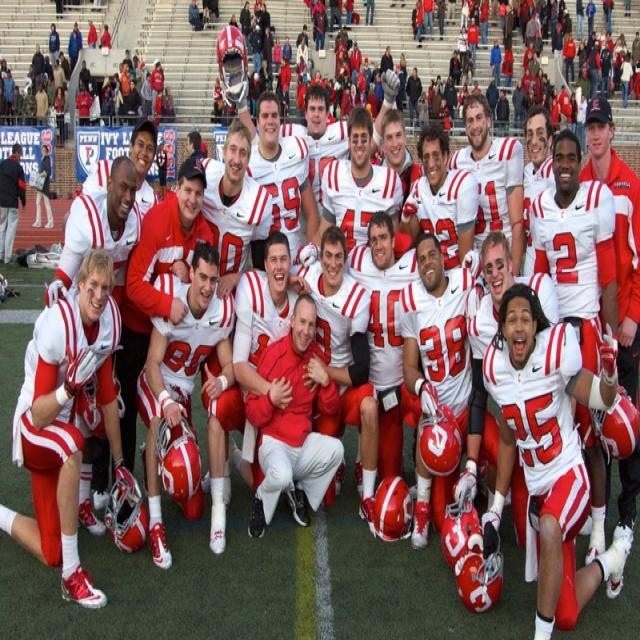body: (0, 0, 640, 136), (479, 280, 634, 638), (295, 208, 485, 499), (0, 242, 140, 610), (294, 104, 411, 498), (452, 227, 582, 559), (528, 128, 618, 572), (131, 237, 238, 576), (110, 153, 216, 495), (396, 230, 492, 554), (192, 121, 274, 498), (285, 222, 382, 537), (574, 94, 640, 538), (224, 66, 402, 226), (242, 290, 346, 539), (226, 228, 302, 499), (294, 102, 405, 276), (44, 154, 142, 321), (446, 92, 526, 277), (244, 91, 319, 269), (398, 122, 479, 270), (61, 115, 161, 234), (519, 101, 562, 280), (370, 107, 427, 225), (0, 140, 28, 269), (26, 142, 57, 231), (405, 65, 423, 140), (511, 77, 529, 140), (238, 0, 254, 63), (312, 1, 329, 58), (149, 59, 165, 119), (334, 24, 351, 80), (66, 19, 84, 71), (56, 80, 71, 141), (52, 84, 66, 148), (562, 30, 577, 89), (586, 40, 600, 102), (125, 77, 142, 127), (2, 68, 16, 128), (75, 81, 93, 127), (620, 50, 634, 109), (494, 88, 510, 138), (112, 71, 126, 128), (156, 141, 169, 201), (501, 36, 514, 95), (484, 78, 501, 123), (20, 85, 38, 127), (184, 129, 206, 163), (600, 47, 614, 100), (456, 23, 470, 74), (466, 16, 479, 70), (10, 83, 26, 126), (34, 79, 48, 127), (444, 73, 458, 121), (260, 1, 271, 62), (48, 22, 61, 73), (478, 0, 491, 50), (262, 24, 274, 78), (67, 30, 82, 73), (140, 70, 154, 116), (490, 37, 502, 89), (394, 62, 406, 114), (30, 41, 46, 78), (57, 49, 71, 90), (187, 0, 204, 32), (52, 58, 67, 94), (630, 28, 639, 86), (449, 50, 462, 89), (295, 33, 309, 68), (585, 0, 597, 40), (380, 45, 394, 79), (78, 59, 92, 92), (362, 55, 372, 100), (349, 40, 362, 74), (457, 81, 470, 114), (0, 57, 7, 116), (578, 40, 588, 81), (437, 0, 447, 41), (295, 23, 309, 51), (86, 18, 98, 50), (99, 22, 113, 49), (274, 34, 283, 76), (598, 40, 613, 64), (26, 62, 36, 96), (41, 52, 53, 80), (282, 36, 292, 63), (470, 78, 482, 95), (125, 48, 134, 70)
